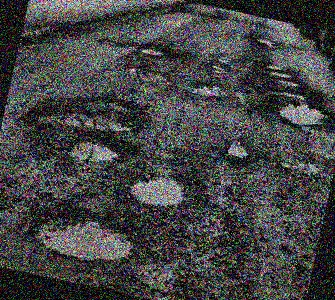pothole: (26, 200, 142, 270), (30, 83, 147, 143), (122, 163, 190, 214), (56, 127, 126, 170), (275, 96, 332, 130), (223, 138, 252, 161), (136, 43, 165, 58), (255, 34, 278, 49), (269, 67, 293, 79), (275, 76, 301, 87)
